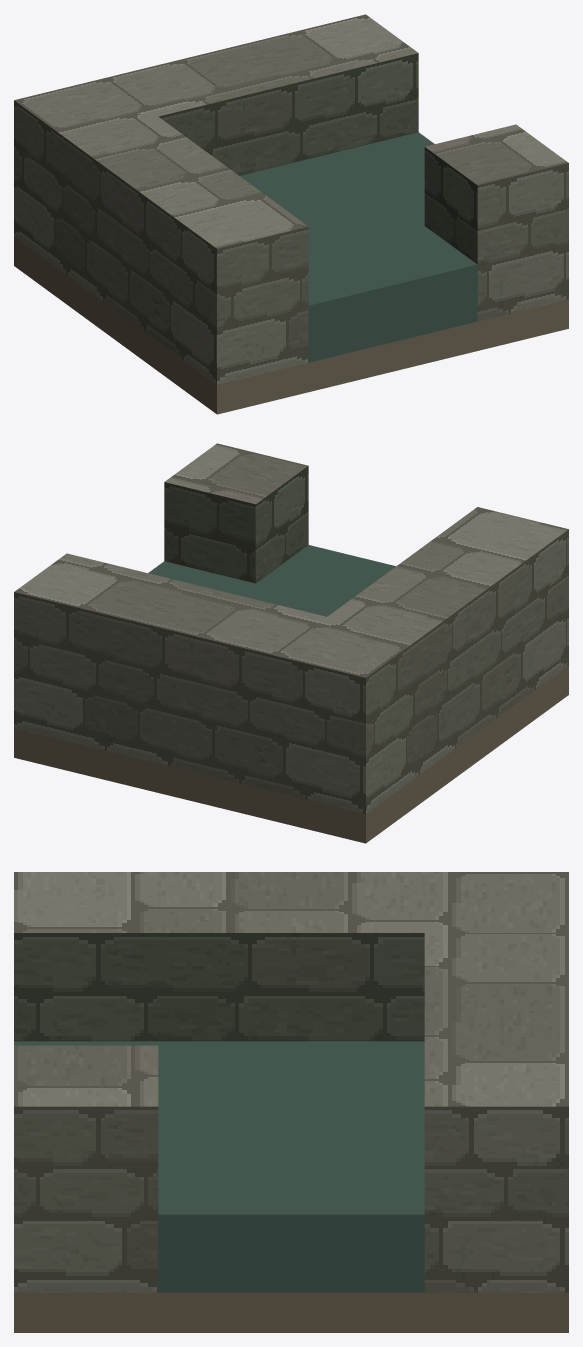
Rendered from quarter_bend.glb.
3 views of the same model, one above another, from view 1: azimuth 30°, elevation 25°; view 2: azimuth 150°, elevation 25°; view 3: azimuth 270°, elevation 25° (orthographic). The views are drawn at different scales.
Visible parts, largest first — view 1: Quarter bend; view 2: Quarter bend; view 3: Quarter bend.
Boxes of the visible parts, box(x1,y1,x2,y2) form: Quarter bend: box(14, 14, 568, 414); Quarter bend: box(14, 443, 568, 843); Quarter bend: box(14, 872, 568, 1332).
Bounding box in the file's own units: 2 × 0.9 × 2.
6 materials, 3 textured.
